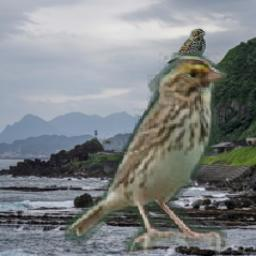Sparrow: (65, 52, 227, 254), (166, 27, 208, 67)
